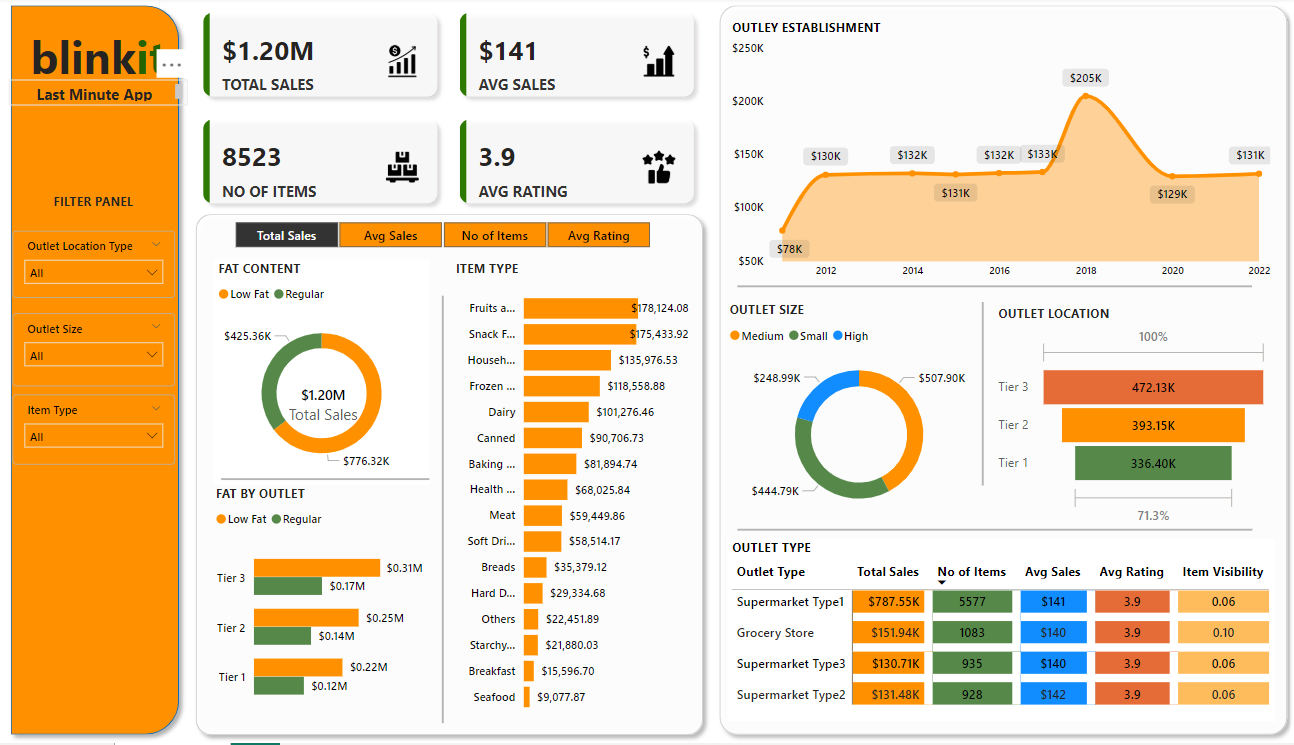

What the dashboard file says about the page in this screenshot:
{"tool":"powerbi","page":{"name":"Page 1","canvas":[1400,800],"ordinal":0},"visuals":[{"type":"shape","box":[13.3,0,198.3,800],"z":0},{"type":"textbox","box":[20,25,191.7,78.3],"z":1000},{"type":"textbox","box":[20,88.3,191.7,28.3],"z":2000},{"type":"cardVisual","fields":{"Data":["BlinkIT Grocery Data.Total Sales","BlinkIT Grocery Data.Avg Sales","BlinkIT Grocery Data.No of Items","BlinkIT Grocery Data.Avg Rating"]},"box":[211.7,0,561.7,238.3],"z":3000},{"type":"shape","box":[211.7,223.3,561.7,576.7],"z":4000},{"type":"donutChart","title":"FAT CONTENT","fields":{"Y":["BlinkIT Grocery Data.Total Sales"],"Category":["BlinkIT Grocery Data.Item Fat Content"]},"box":[240,281.7,231.7,241.7],"z":5000},{"type":"slicer","fields":{"Values":["Metrics.Metrics"]},"box":[236.8,235.2,494.4,40],"z":6000},{"type":"cardVisual","fields":{"Data":["BlinkIT Grocery Data.Total Sales"]},"box":[291.7,400,130,68.3],"z":7000},{"type":"clusteredBarChart","title":"FAT BY OUTLET","fields":{"Y":["BlinkIT Grocery Data.Total Sales"],"Category":["BlinkIT Grocery Data.Outlet Location Type"],"Series":["BlinkIT Grocery Data.Item Fat Content"]},"box":[236.8,523.2,232,254.4],"z":8000},{"type":"shape","box":[248.3,505,223.3,23.3],"z":9000},{"type":"shape","box":[476.7,320,16.7,458.3],"z":10000},{"type":"barChart","title":"ITEM TYPE","fields":{"Y":["BlinkIT Grocery Data.Total Sales"],"Category":["BlinkIT Grocery Data.Item Type"]},"box":[495,281.7,260,496.7],"z":11000},{"type":"shape","box":[773.3,0,626.7,800],"z":12000},{"type":"areaChart","title":"OUTLEY ESTABLISHMENT","fields":{"Category":["BlinkIT Grocery Data.Outlet Establishment Year"],"Y":["BlinkIT Grocery Data.Total Sales"]},"box":[790.4,22.4,587.2,288],"z":13000},{"type":"shape","box":[801.7,300,551.7,20],"z":14000},{"type":"donutChart","title":"OUTLET SIZE","fields":{"Y":["BlinkIT Grocery Data.Total Sales"],"Category":["BlinkIT Grocery Data.Outlet Size"]},"box":[788.8,326.4,288,241.6],"z":15000},{"type":"shape","box":[1050,326.7,30,196.7],"z":16000},{"type":"funnel","title":"OUTLET LOCATION","fields":{"Y":["Sum(BlinkIT Grocery Data.Sales)"],"Category":["BlinkIT Grocery Data.Outlet Location Type"]},"box":[1076.8,329.6,299.2,241.6],"z":17000},{"type":"pivotTable","title":"OUTLET TYPE","fields":{"Values":["BlinkIT Grocery Data.Total Sales","BlinkIT Grocery Data.No of Items","BlinkIT Grocery Data.Avg Sales","BlinkIT Grocery Data.Avg Rating","Avg(BlinkIT Grocery Data.Item Visibility)"],"Rows":["BlinkIT Grocery Data.Outlet Type"]},"box":[790.4,580.8,587.2,196.8],"z":18000},{"type":"shape","box":[801.6,561.6,552,19.2],"z":19000},{"type":"slicer","fields":{"Values":["BlinkIT Grocery Data.Outlet Location Type"]},"box":[24,250.8,174.4,72],"z":20000},{"type":"slicer","fields":{"Values":["BlinkIT Grocery Data.Outlet Size"]},"box":[24,338.8,174.4,78.4],"z":21000},{"type":"slicer","fields":{"Values":["BlinkIT Grocery Data.Item Type"]},"box":[24,426.8,174.4,75.2],"z":22000},{"type":"textbox","box":[62.4,204.8,99.2,38.4],"z":22001}]}

Visuals, with their boxes in screenshot pixels (x1, y1, x2, y2), scaled from the page's 1400x800 canvas onto the 1294x745 screenshot:
shape: (left=12, top=0, right=196, bottom=744)
textbox: (left=18, top=23, right=196, bottom=96)
textbox: (left=18, top=82, right=196, bottom=109)
cardVisual - BlinkIT Grocery Data.Total Sales x BlinkIT Grocery Data.Avg Sales: (left=196, top=0, right=715, bottom=222)
shape: (left=196, top=208, right=715, bottom=744)
"FAT CONTENT" donutChart: (left=222, top=262, right=436, bottom=487)
slicer - Metrics.Metrics: (left=219, top=219, right=676, bottom=256)
cardVisual - BlinkIT Grocery Data.Total Sales: (left=270, top=372, right=390, bottom=436)
"FAT BY OUTLET" clusteredBarChart: (left=219, top=487, right=433, bottom=724)
shape: (left=230, top=470, right=436, bottom=492)
shape: (left=441, top=298, right=456, bottom=725)
"ITEM TYPE" barChart: (left=458, top=262, right=698, bottom=725)
shape: (left=715, top=0, right=1293, bottom=744)
"OUTLEY ESTABLISHMENT" areaChart: (left=731, top=21, right=1273, bottom=289)
shape: (left=741, top=279, right=1251, bottom=298)
"OUTLET SIZE" donutChart: (left=729, top=304, right=995, bottom=529)
shape: (left=970, top=304, right=998, bottom=487)
"OUTLET LOCATION" funnel: (left=995, top=307, right=1272, bottom=532)
"OUTLET TYPE" pivotTable: (left=731, top=541, right=1273, bottom=724)
shape: (left=741, top=523, right=1251, bottom=541)
slicer - BlinkIT Grocery Data.Outlet Location Type: (left=22, top=234, right=183, bottom=301)
slicer - BlinkIT Grocery Data.Outlet Size: (left=22, top=316, right=183, bottom=389)
slicer - BlinkIT Grocery Data.Item Type: (left=22, top=397, right=183, bottom=467)
textbox: (left=58, top=191, right=149, bottom=226)
